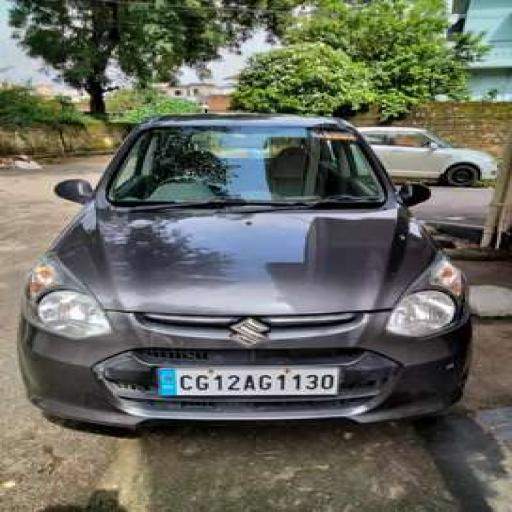license_plate`: (156, 365, 337, 395)
